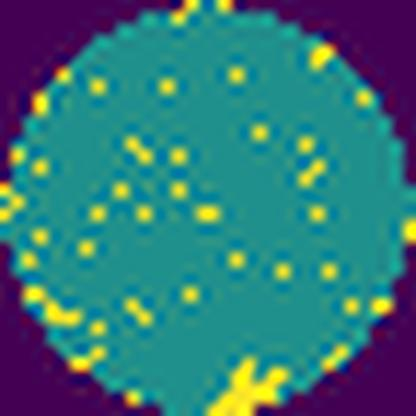Edge-Loc: (154, 346, 324, 416)
